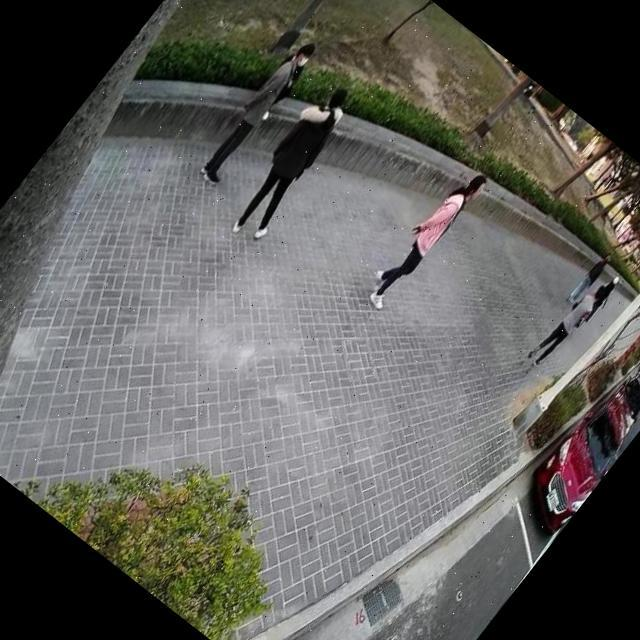person: (214, 71, 371, 251), (355, 152, 496, 318), (187, 29, 325, 192), (518, 268, 614, 378), (562, 243, 620, 310), (575, 267, 628, 329), (590, 166, 616, 196)
